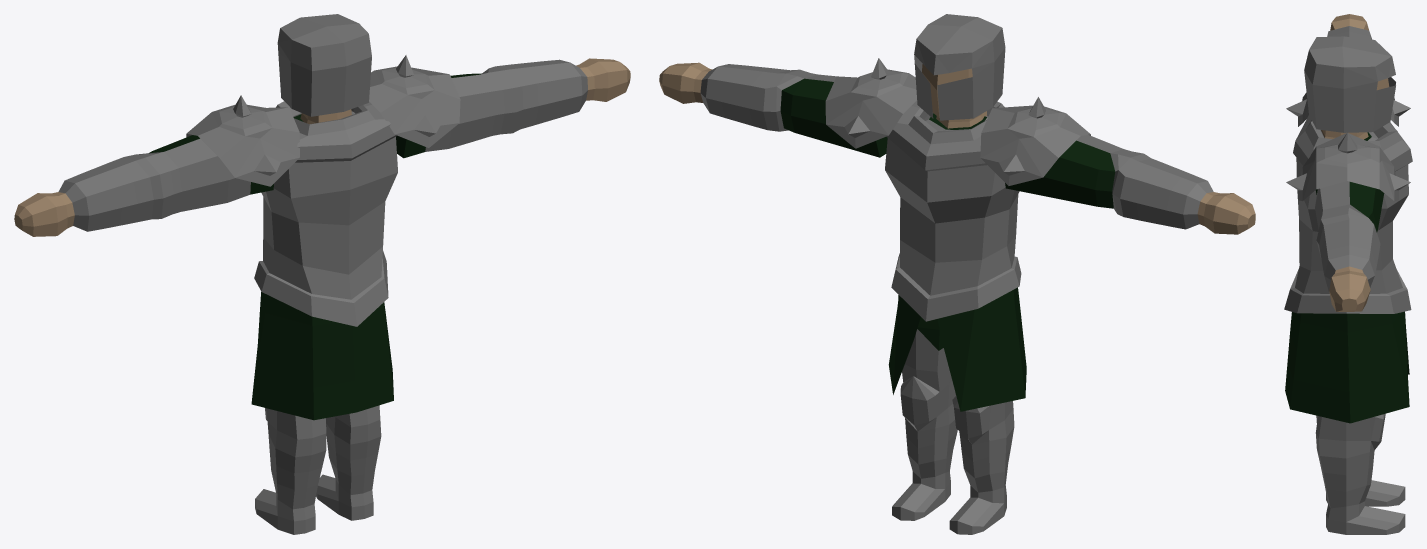
File: Warrior.fbx
3 views of the same model, side by side, from view 1: azimuth 30°, elevation 25°; view 2: azimuth 150°, elevation 25°; view 3: azimuth 270°, elevation 25° (orthographic). The views are drawn at different scales.
Parts seen in each view (by area): view 1: Warrior_Body, Warrior_Hands, Warrior_ShoulderPads, Warrior_Legs, Warrior_Helmet; view 2: Warrior_Body, Warrior_Hands, Warrior_Legs, Warrior_ShoulderPads, Warrior_Helmet, Warrior_Head; view 3: Warrior_Body, Warrior_Hands, Warrior_Legs, Warrior_Helmet, Warrior_ShoulderPads, Warrior_Head.
Part boxes in pixels (bbox=[...]): Warrior_Body: bbox=[251, 101, 397, 420]; Warrior_Hands: bbox=[14, 58, 630, 236]; Warrior_ShoulderPads: bbox=[186, 55, 460, 186]; Warrior_Legs: bbox=[255, 405, 381, 534]; Warrior_Helmet: bbox=[277, 14, 371, 116]; Warrior_Body: bbox=[885, 100, 1026, 411]; Warrior_Hands: bbox=[659, 62, 1255, 234]; Warrior_Legs: bbox=[892, 317, 1014, 534]; Warrior_ShoulderPads: bbox=[825, 58, 1090, 185]; Warrior_Helmet: bbox=[914, 14, 1005, 120]; Warrior_Head: bbox=[922, 64, 986, 128]; Warrior_Body: bbox=[1284, 115, 1412, 423]; Warrior_Hands: bbox=[1315, 14, 1384, 311]; Warrior_Legs: bbox=[1315, 413, 1405, 534]; Warrior_Helmet: bbox=[1304, 36, 1395, 132]; Warrior_ShoulderPads: bbox=[1286, 92, 1410, 201]; Warrior_Head: bbox=[1321, 78, 1389, 139].
Bounding box in the file's own units: 250 × 193 × 48.35.
